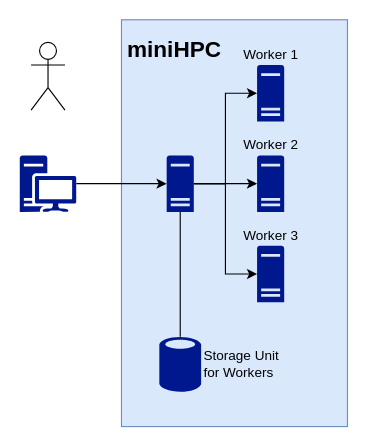
Some shapes in this 367 by 446 pixel diagram are drawn without their labels. The shapes that lost their labels are listed below. From the top down, each one's box as (x1, y1, x2, y2) in pixels, then its label:
(30, 41, 65, 110): Actor
(166, 155, 193, 211): Head Node
